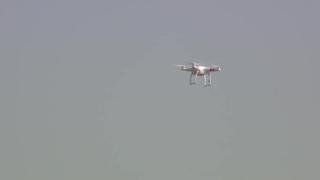UAV: (176, 62, 221, 87)
